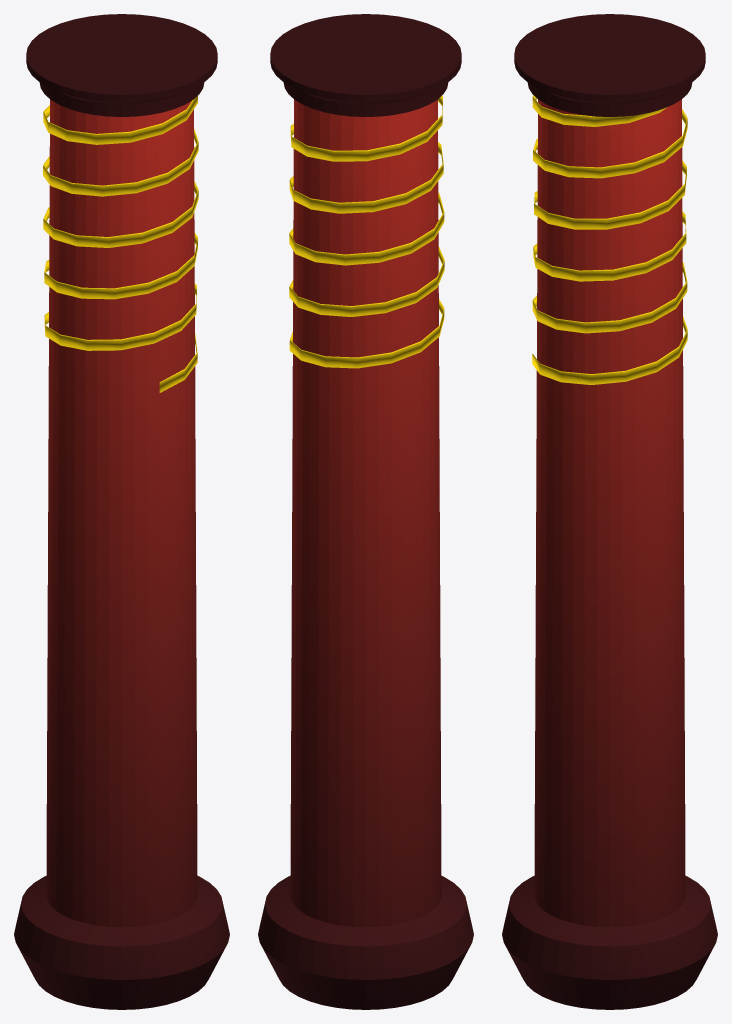
File: Raven_Pillar.fbx
The picture shows the model from 3 angles, left to right: view 1: azimuth 30°, elevation 25°; view 2: azimuth 150°, elevation 25°; view 3: azimuth 270°, elevation 25°; orthographic projection.
Parts seen in each view (by area): view 1: Cylinder, Circle.002; view 2: Cylinder, Circle.002; view 3: Cylinder, Circle.002.
Part boxes in pixels (x1=…): Cylinder: x1=14, y1=14, x2=229, y2=1009; Circle.002: x1=43, y1=96, x2=198, y2=392; Cylinder: x1=258, y1=14, x2=473, y2=1009; Circle.002: x1=289, y1=95, x2=444, y2=368; Cylinder: x1=502, y1=14, x2=717, y2=1009; Circle.002: x1=532, y1=95, x2=687, y2=384.
Bounding box in the file's own units: 184 × 865 × 184.
Materials: 2 (1 with a texture image).
